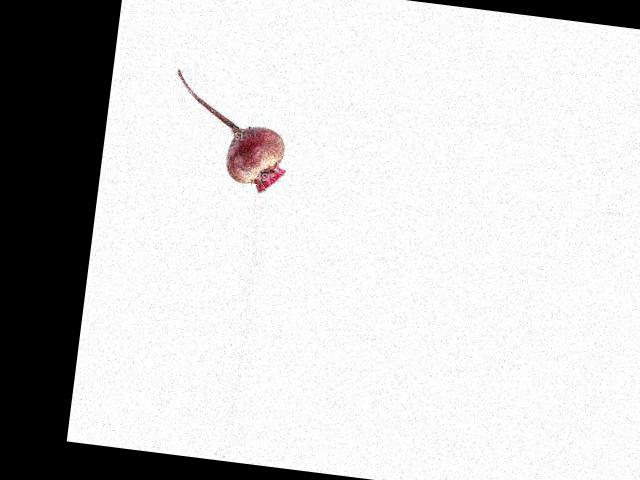beet: (163, 69, 295, 195)
